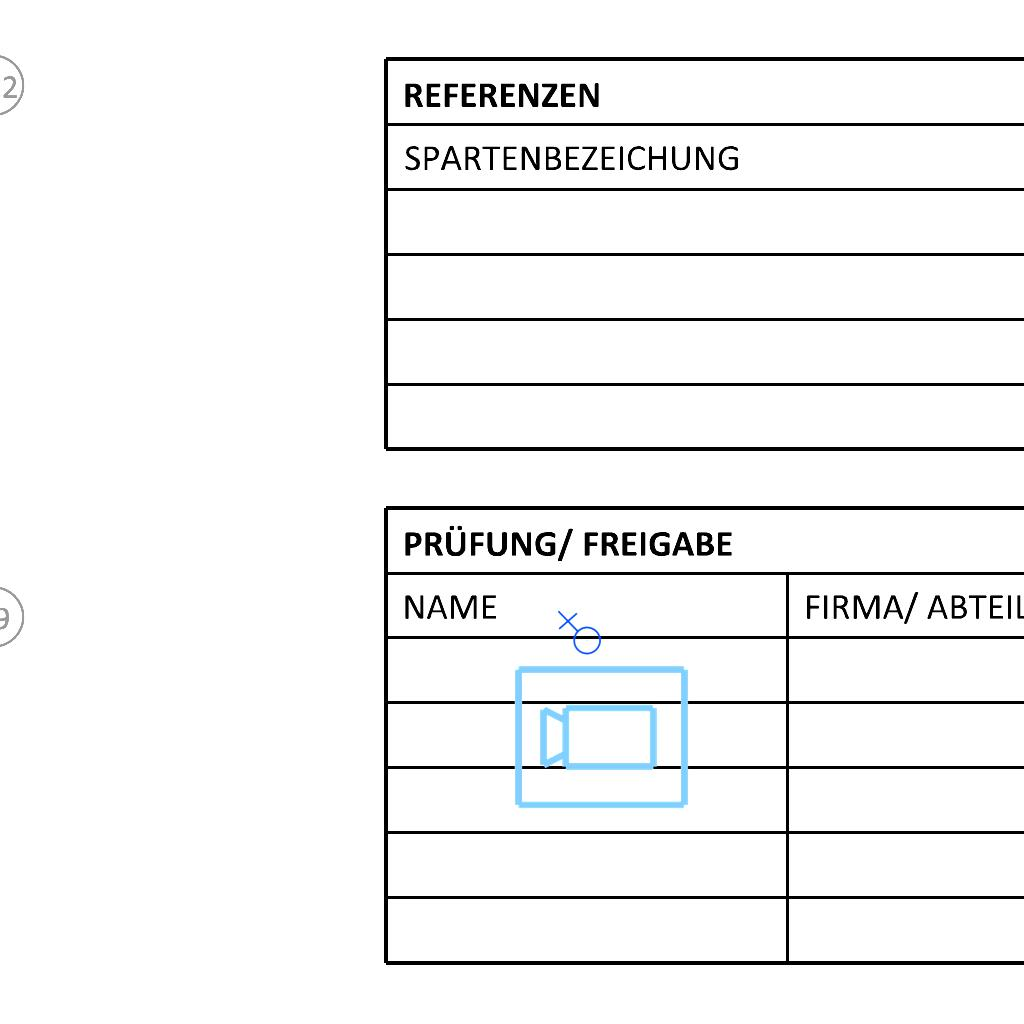Elektroanschluss_allgemein_230V_Geraeteanschlussdose_230V: (555, 610, 602, 659)
KFO_Kamera_mit_Festobjektiv: (511, 659, 693, 813)
